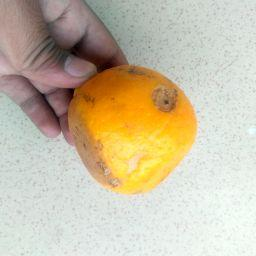Unripe: (69, 67, 197, 193)
